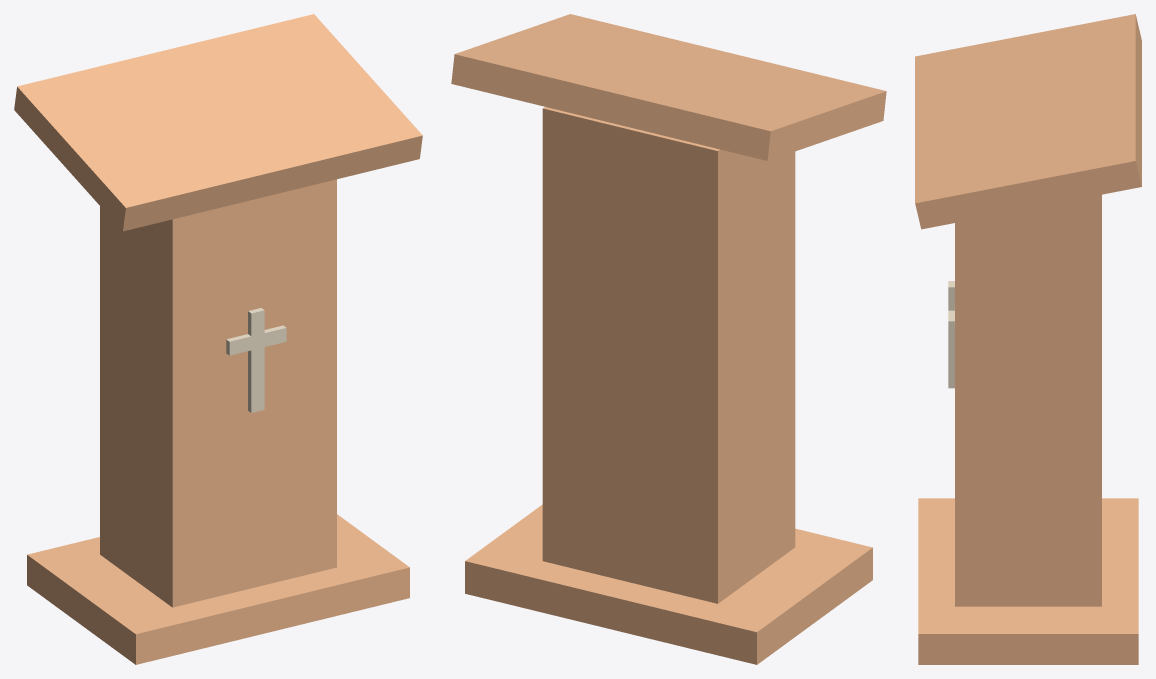
3 renders of one model, left to right at view 1: azimuth 30°, elevation 25°; view 2: azimuth 150°, elevation 25°; view 3: azimuth 270°, elevation 25°, orthographic. The views are drawn at different scales.
Parts seen in each view (by area): view 1: Body, Reading top, Foot, Cross upright, Cross arm; view 2: Body, Reading top, Foot; view 3: Body, Reading top, Foot, Cross upright.
Boxes of the visible parts, <box> form: Body: <box>100,179,336,607</box>; Reading top: <box>14,14,422,231</box>; Foot: <box>27,514,409,664</box>; Cross upright: <box>248,308,264,412</box>; Cross arm: <box>226,325,286,355</box>; Body: <box>542,107,795,603</box>; Reading top: <box>451,14,886,160</box>; Foot: <box>465,504,872,664</box>; Body: <box>955,194,1101,606</box>; Reading top: <box>915,14,1141,229</box>; Foot: <box>918,498,1138,664</box>; Cross upright: <box>948,281,954,388</box>.
Bounding box in the file's own units: 0.78 × 1.26 × 0.5087.
Materials: 1 (1 with a texture image).
